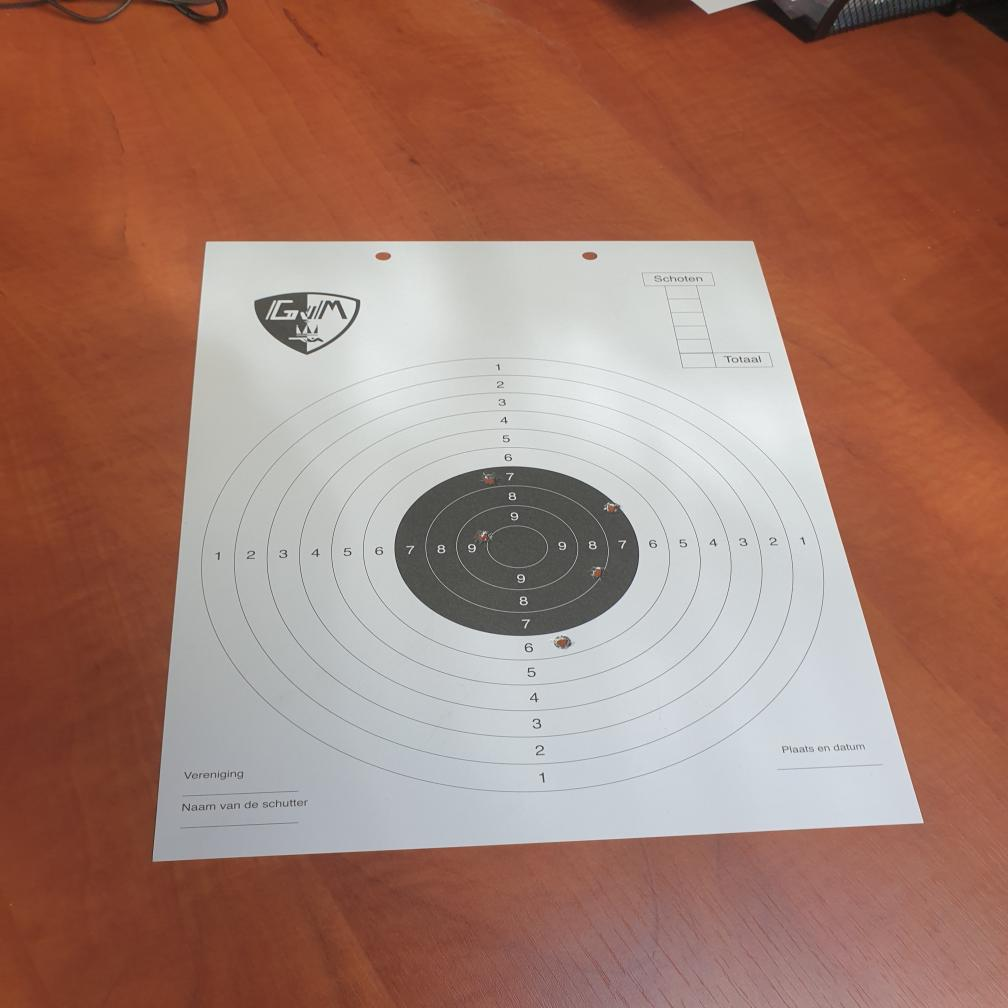10: (472, 528, 495, 546)
6: (552, 634, 574, 650)
7: (478, 472, 502, 487), (601, 500, 623, 514)
8: (588, 564, 608, 581)
Target: (205, 356, 826, 793)
black_contour: (397, 464, 640, 638)
